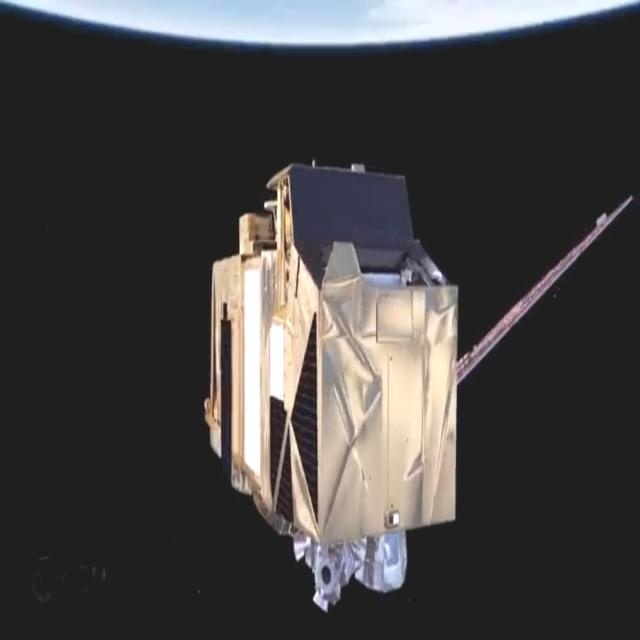satellite: (195, 156, 640, 621)
